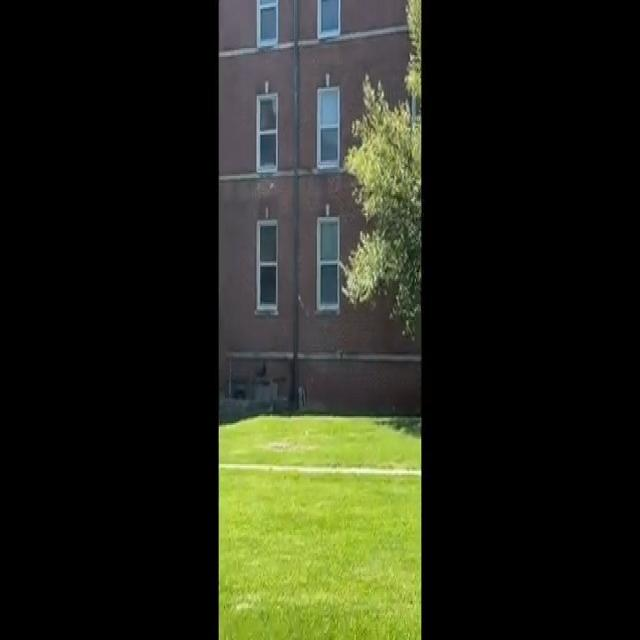drone: (330, 340, 348, 362)
